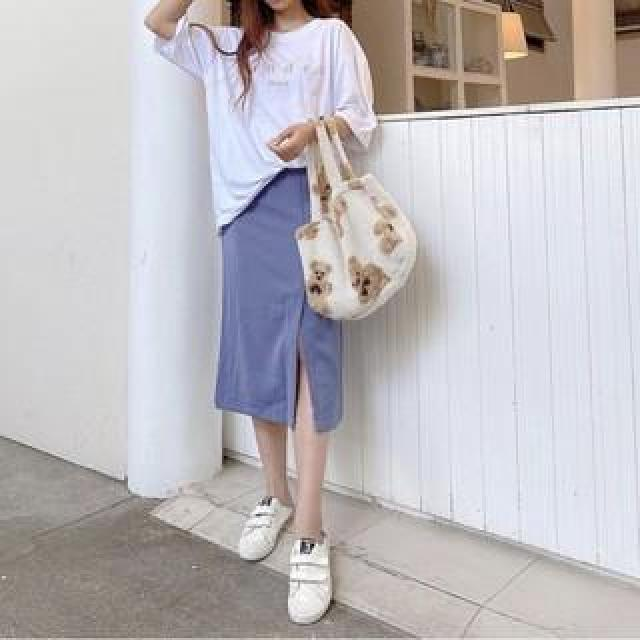Tshirt: (152, 0, 386, 234)
skirt: (180, 153, 362, 461)
